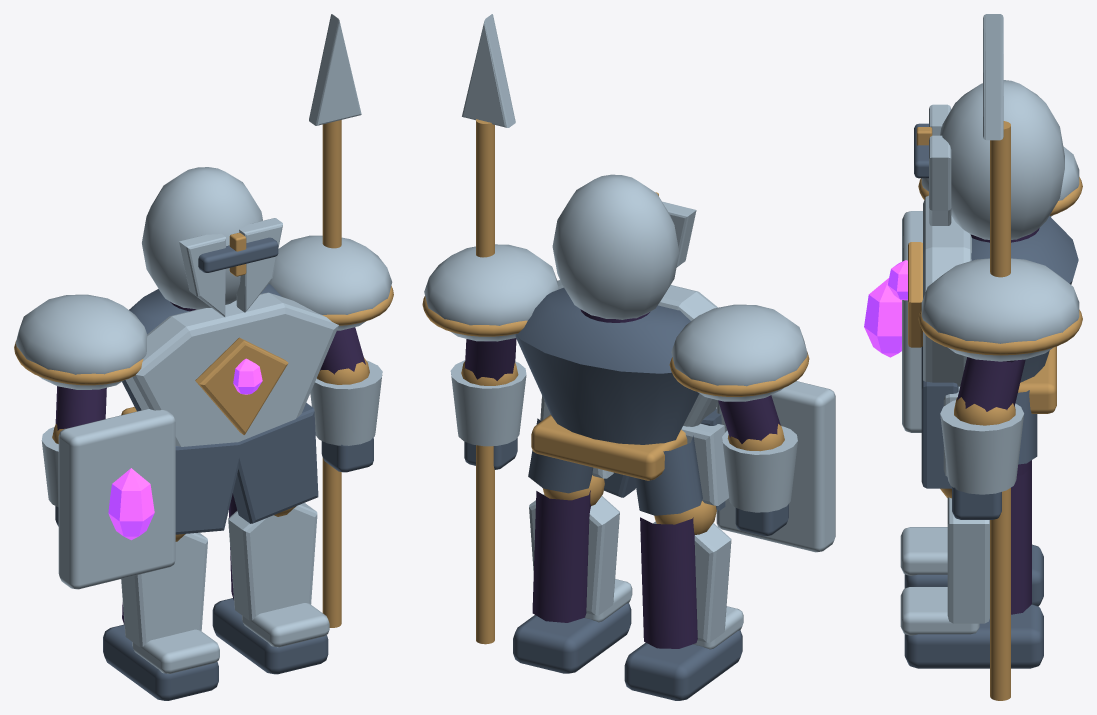
File: moonsteel-convergence-vanguard-minion-aed472d2__18174.glb
3 views of the same model, side by side, from view 1: azimuth 30°, elevation 25°; view 2: azimuth 150°, elevation 25°; view 3: azimuth 270°, elevation 25° (orthographic). The views are drawn at different scales.
Visible parts, largest first — view 1: vanguard-minion; view 2: vanguard-minion; view 3: vanguard-minion.
Part boxes in pixels (x1,y1,x2,y2): vanguard-minion: [14, 14, 393, 700]; vanguard-minion: [422, 14, 835, 700]; vanguard-minion: [864, 14, 1082, 700].
Bounding box in the file's own units: 1.01 × 1.63 × 0.4751.
